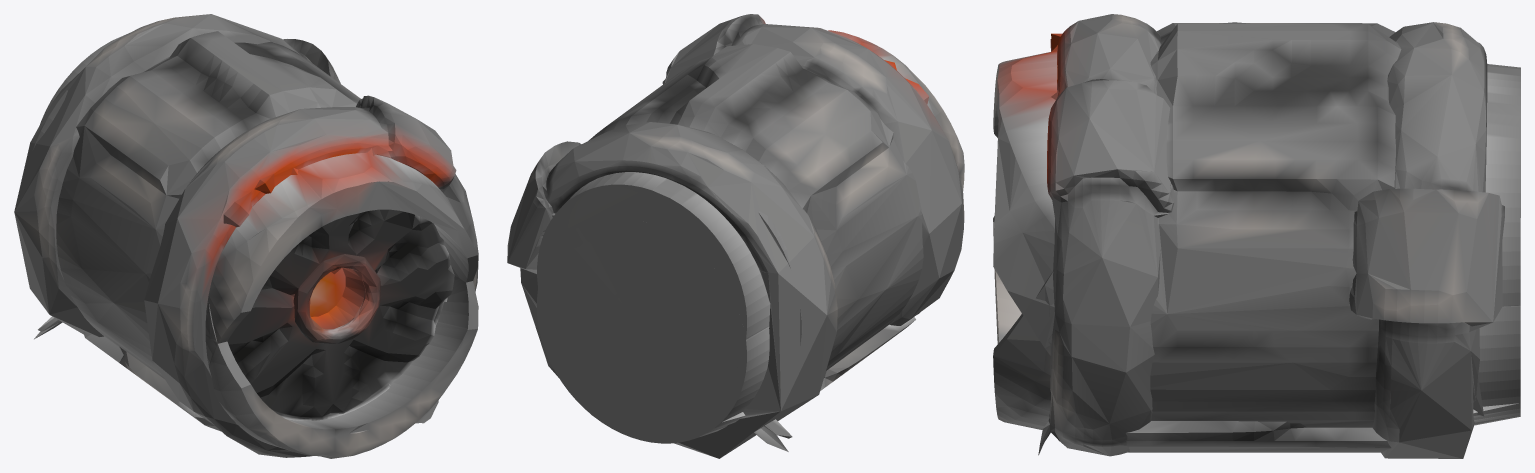
The model's file is Motor.glb.
3 renders of one model, left to right at view 1: azimuth 30°, elevation 25°; view 2: azimuth 150°, elevation 25°; view 3: azimuth 270°, elevation 25°, orthographic. The views are drawn at different scales.
Parts seen in each view (by area): view 1: Motor; view 2: Motor; view 3: Motor.
Boxes of the visible parts, x1=… form: Motor: x1=14, y1=14, x2=478, y2=458; Motor: x1=507, y1=14, x2=964, y2=458; Motor: x1=993, y1=14, x2=1520, y2=458.
Bounding box in the file's own units: 1.25 × 1.24 × 1.44.
